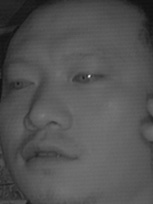eye: (71, 65, 107, 89), (7, 73, 36, 93)
mouth: (19, 132, 84, 174)
